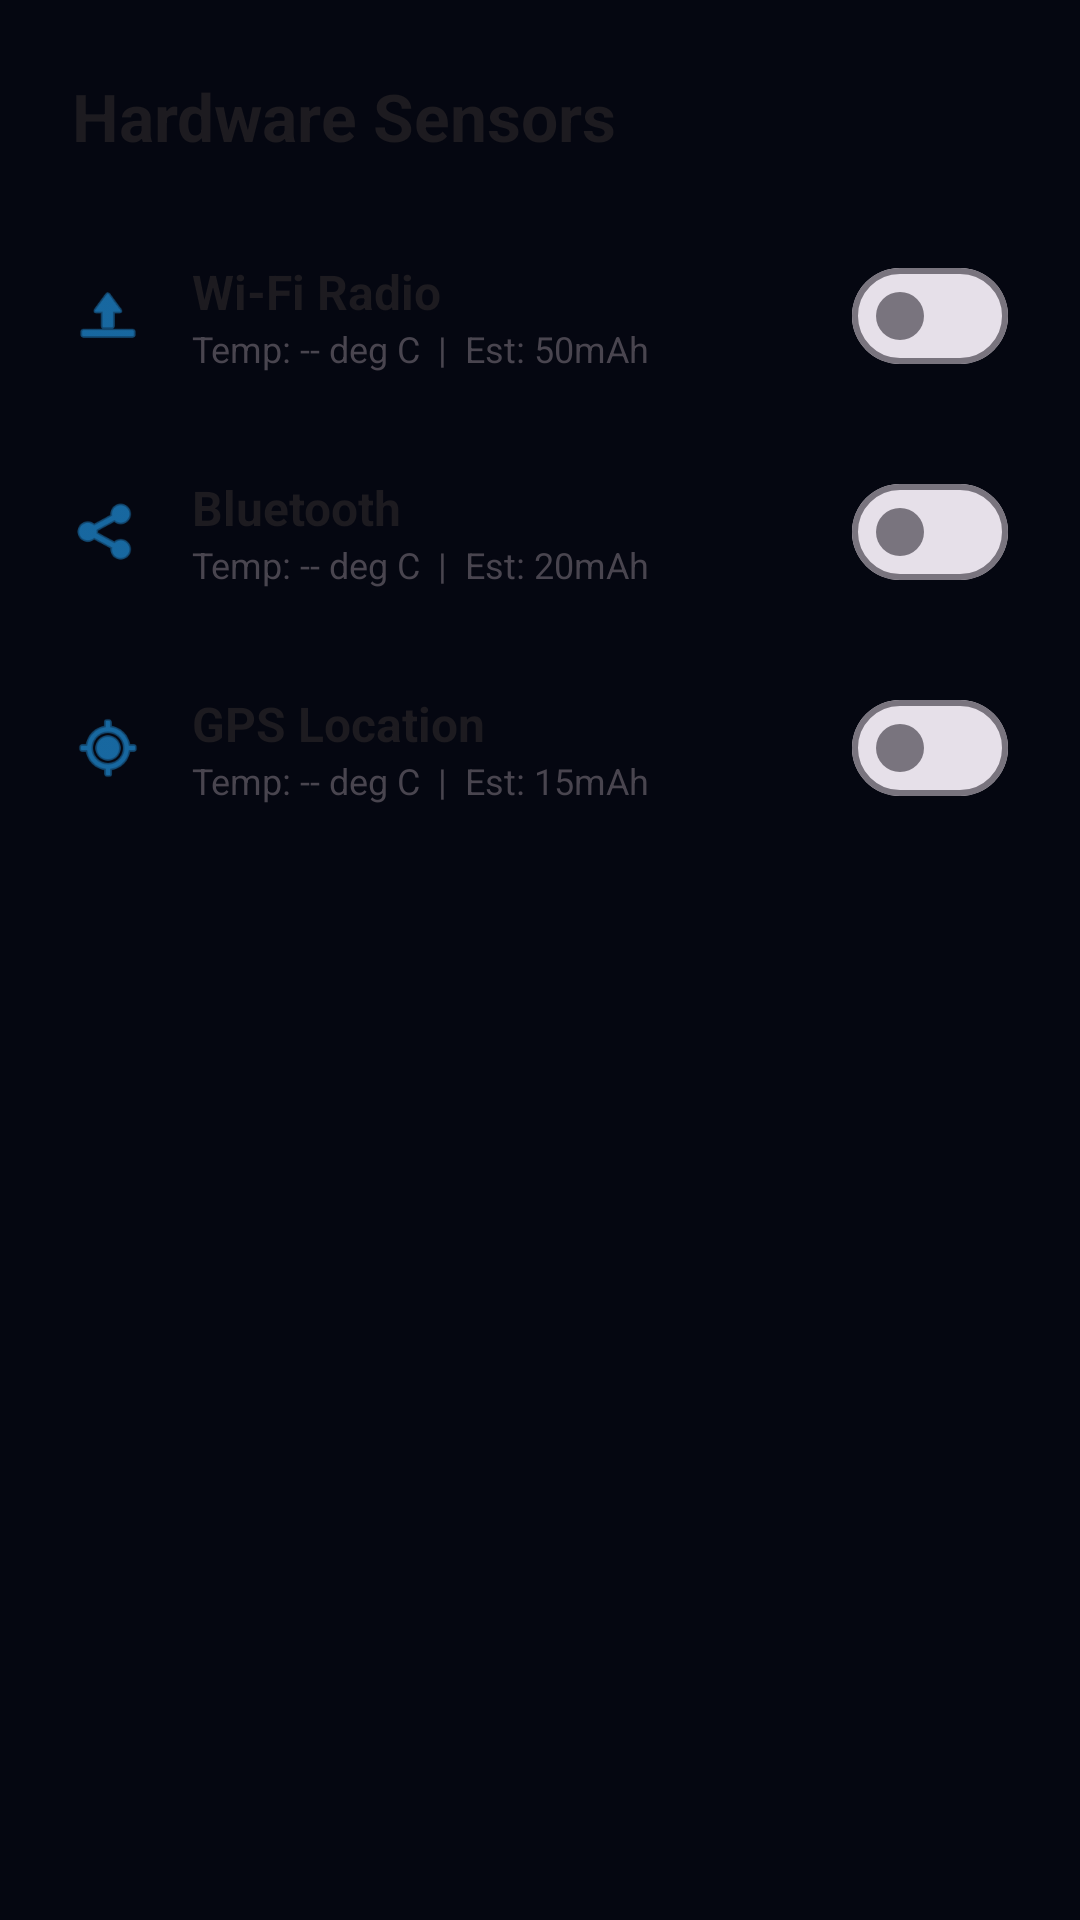

Icons on this 1080 x 1920 Android screen, each with the point to tap as (x=x, y=y):
mylocation: (x=108, y=748)
share: (x=104, y=531)
upload: (x=108, y=315)
